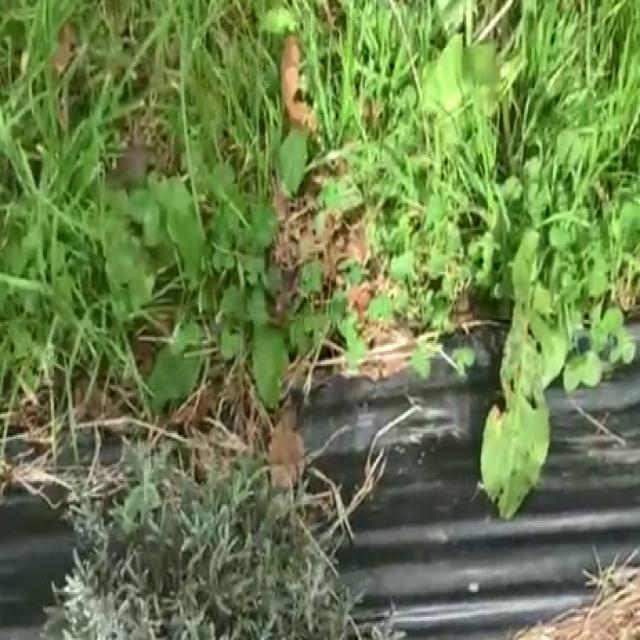organic waste: (101, 32, 357, 426), (460, 212, 610, 580), (412, 18, 539, 174)
